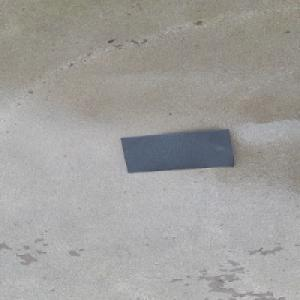PaintChip: (119, 128, 233, 173)
